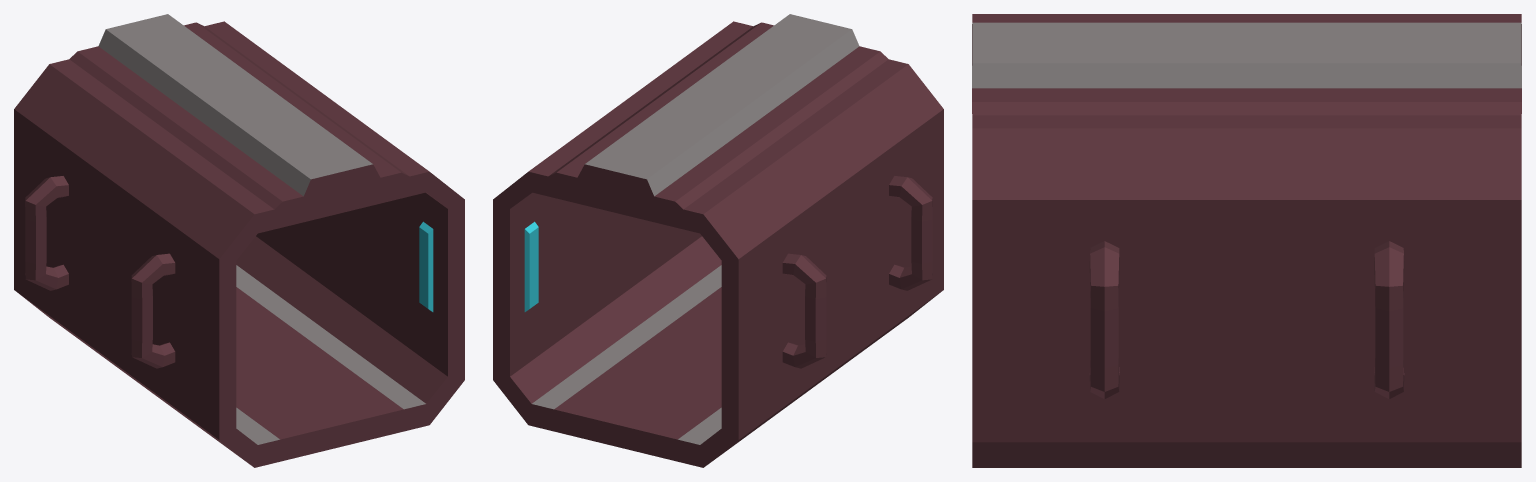
File: scifi-planet-base-hall-middle.fbx
The picture shows the model from 3 angles, left to right: view 1: azimuth 30°, elevation 25°; view 2: azimuth 150°, elevation 25°; view 3: azimuth 270°, elevation 25°; orthographic projection. The views are drawn at different scales.
Parts seen in each view (by area): view 1: scifi-planet-base-hall-middle; view 2: scifi-planet-base-hall-middle; view 3: scifi-planet-base-hall-middle.
Part boxes in pixels (left/top/right/bottom): scifi-planet-base-hall-middle: left=14, top=14, right=464, bottom=467; scifi-planet-base-hall-middle: left=493, top=14, right=943, bottom=467; scifi-planet-base-hall-middle: left=972, top=14, right=1521, bottom=467.
Size of the model in its own units: 3.63 by 2.95 by 4.
